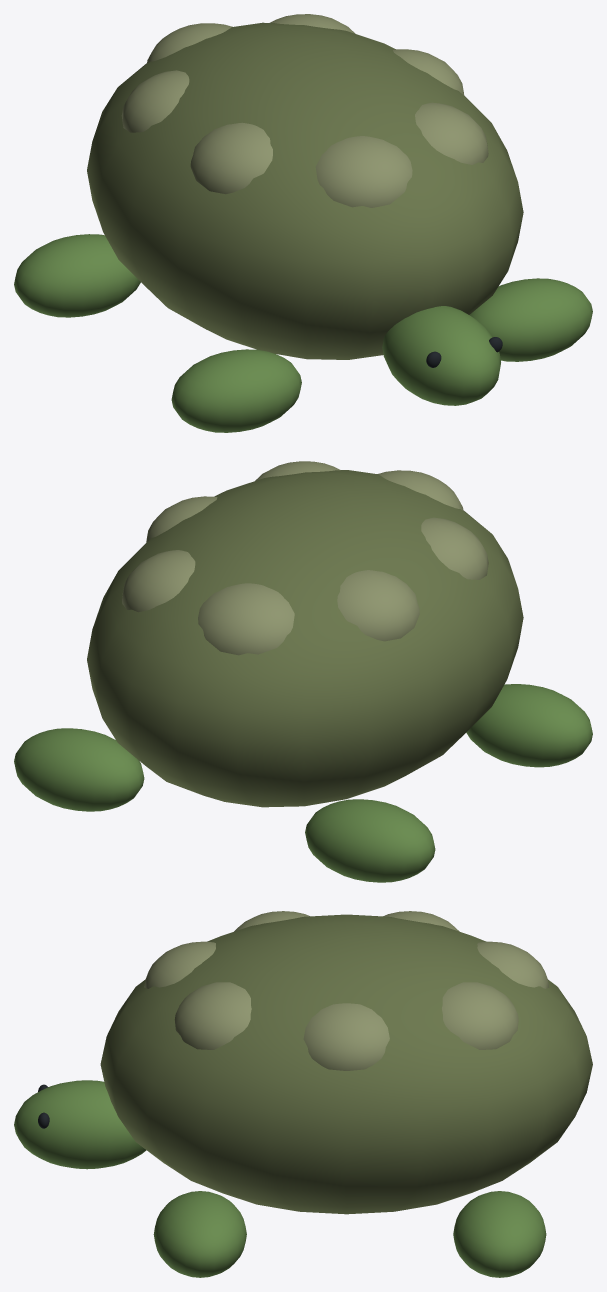
Rendered from pet-04.glb.
3 renders of one model, top to bottom at view 1: azimuth 30°, elevation 25°; view 2: azimuth 150°, elevation 25°; view 3: azimuth 270°, elevation 25°, orthographic. The views are drawn at different scales.
Visible parts, largest first — view 1: shell, leg (×3), scute (×7), head; view 2: shell, leg (×3), scute (×7); view 3: shell, scute (×7), leg (×2), head.
Boxes of the visible parts, x1,y1,x2,y2 form: shell: (87,22,523,359); leg (×3): (14,234,592,432); scute (×7): (121,14,488,207); head: (382,306,500,405); shell: (87,470,523,807); leg (×3): (14,684,592,882); scute (×7): (122,461,488,655); shell: (100,914,592,1214); scute (×7): (144,911,549,1070); leg (×2): (153,1191,546,1277); head: (14,1080,146,1169).
Size of the model in its own units: 0.68 by 0.435 by 0.87.
